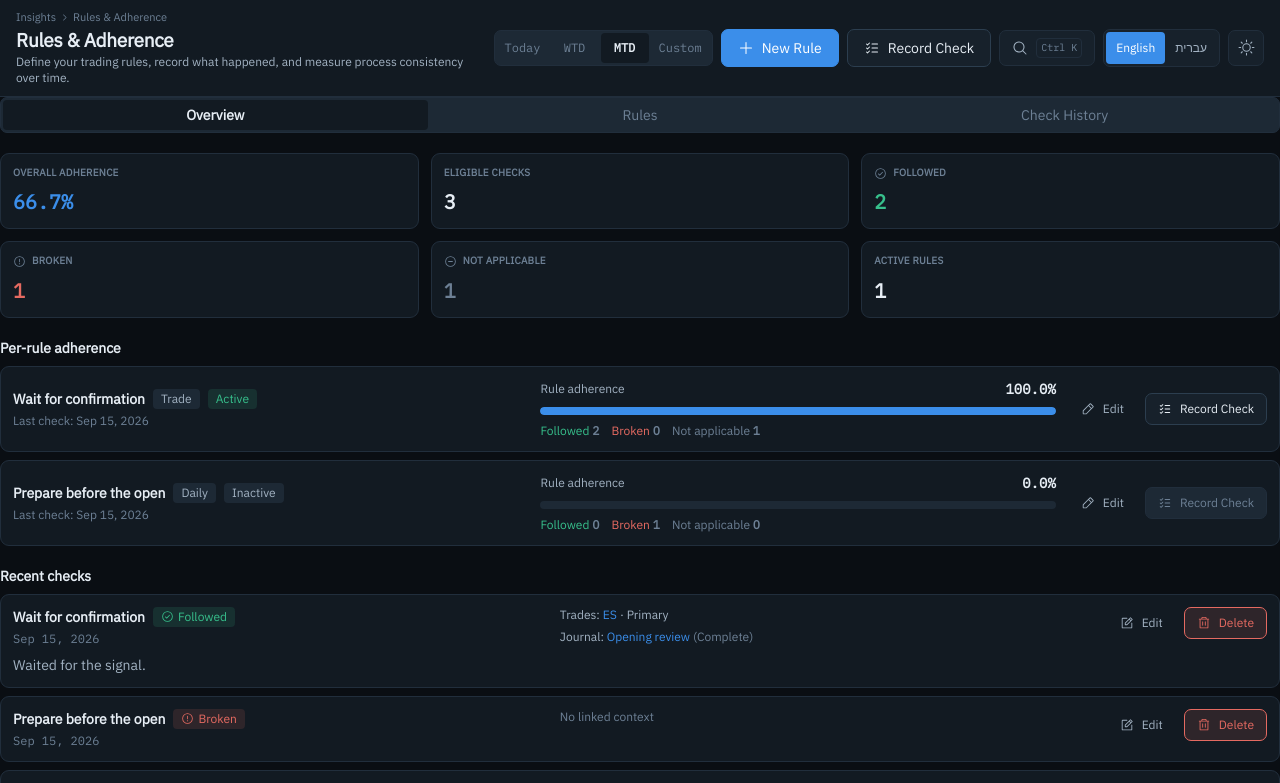
Scenario: Rules & Adherence page › preserves history filters during pagination and deletes only after confirmation
The width and height of the screenshot is (1280, 783).
Click the tab "Check History".
click(1065, 115)  # box [852,100,1277,130]
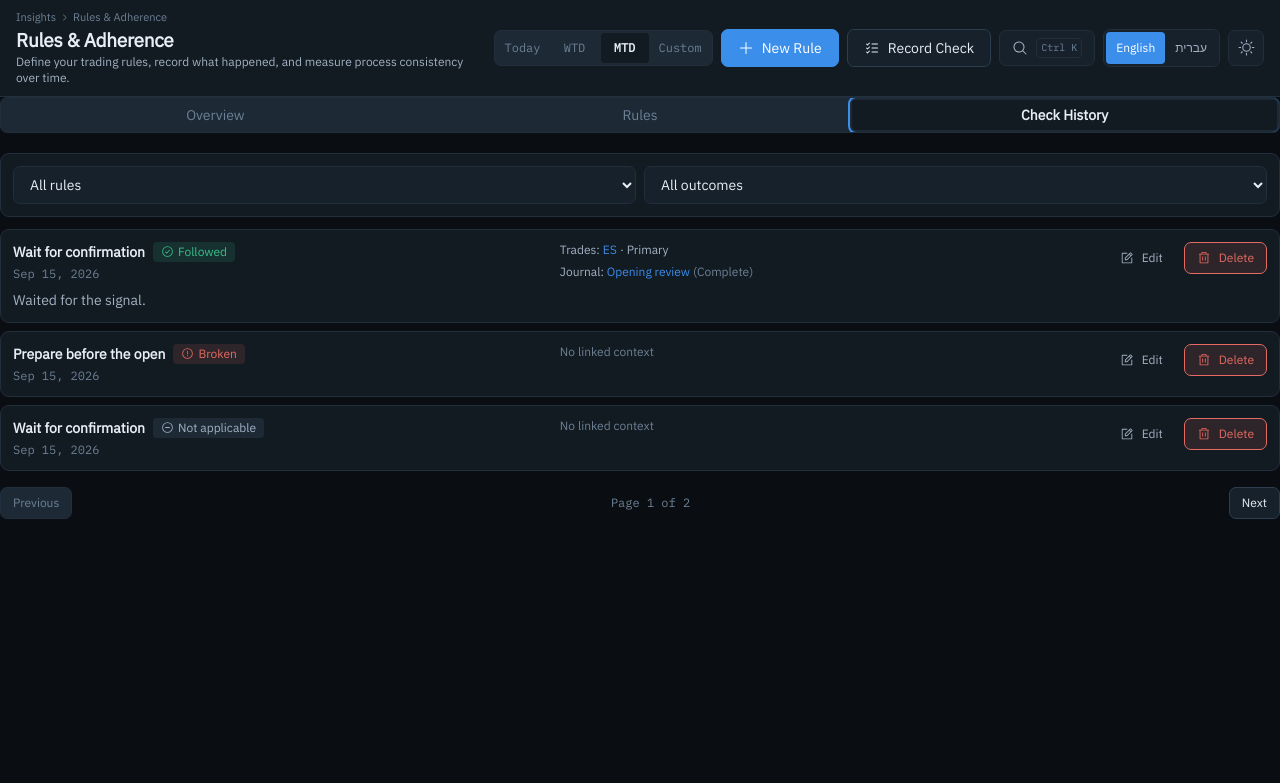
Select "Broken" in the dropdown named "History outcome" at {"x": 956, "y": 185}, box [644,166,1267,204]
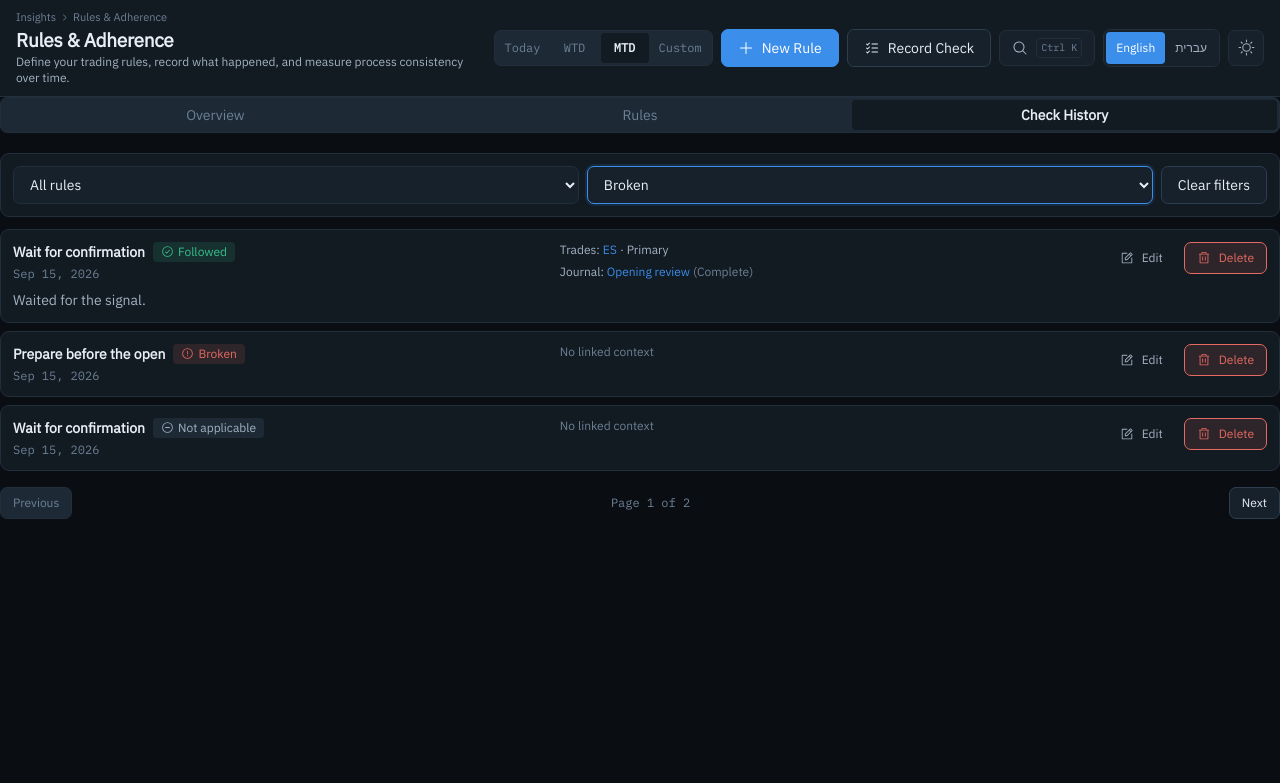
Click the button "Next".
click(1254, 503)  # box [1229,487,1279,519]
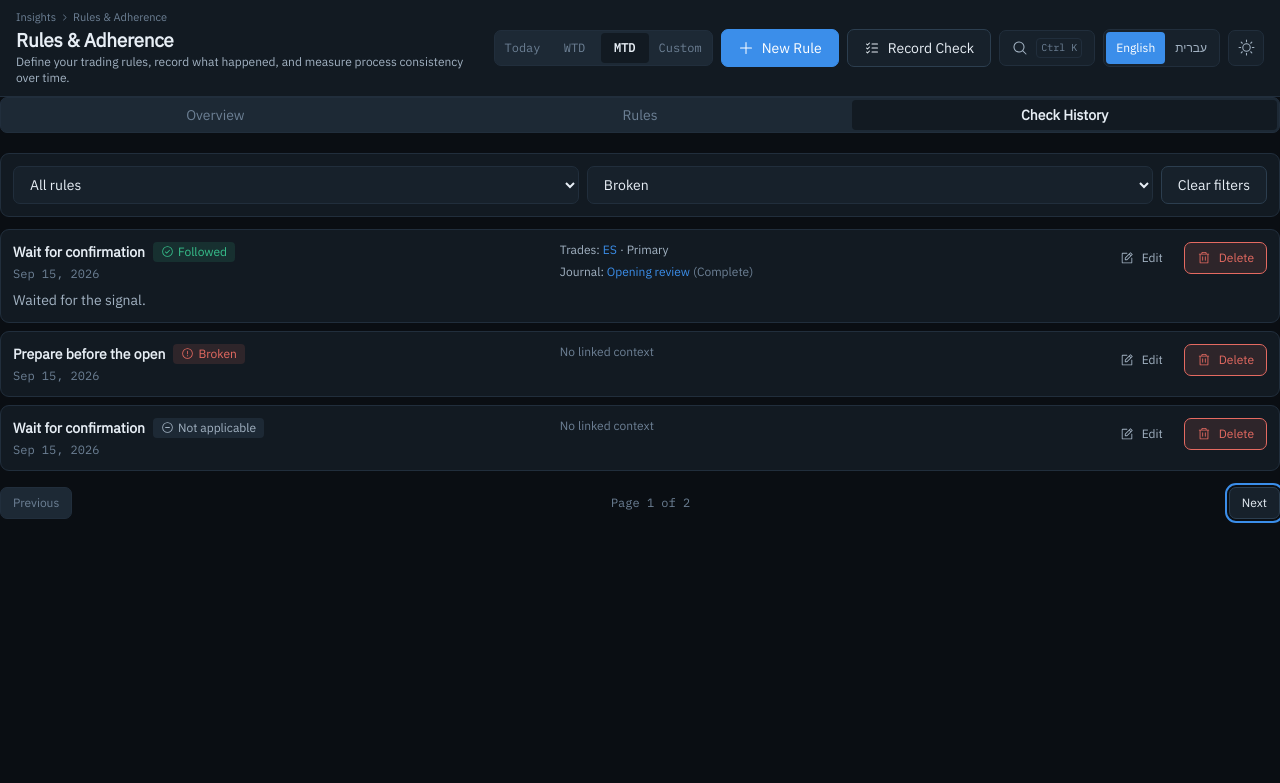
Click the button "Delete" in the row of "Complete".
click(1225, 258)  # box [1184,242,1267,274]
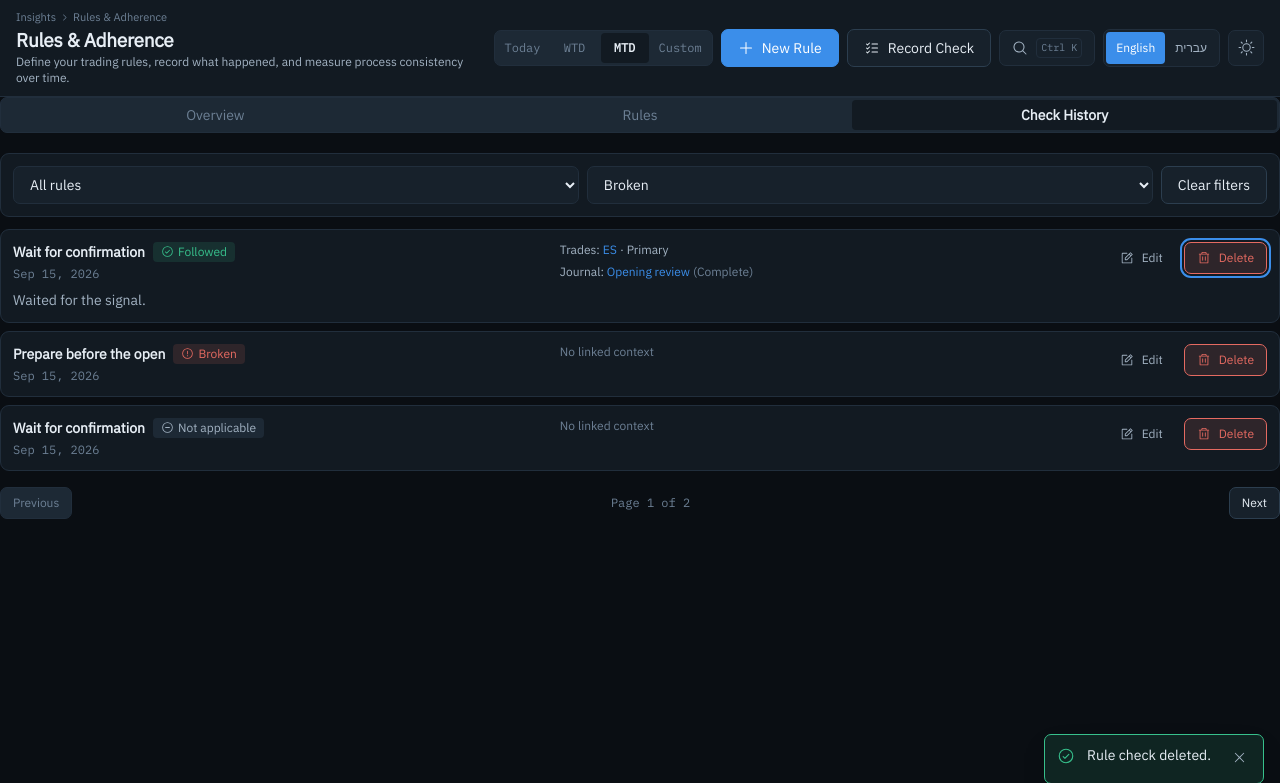
Expected: the text "Rule check deleted." is shown, [1087,745,1211,765]
